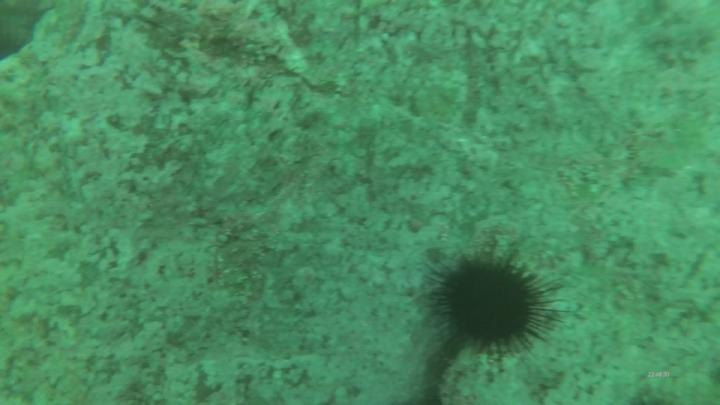echinus: (422, 236, 565, 369)
